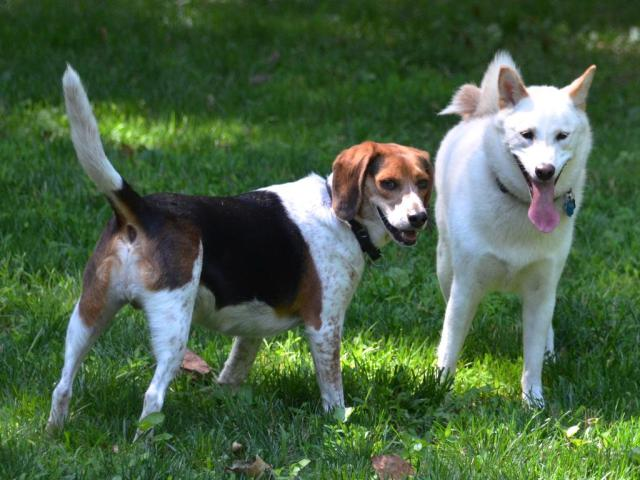Dog: (41, 59, 433, 440), (429, 46, 596, 416)
